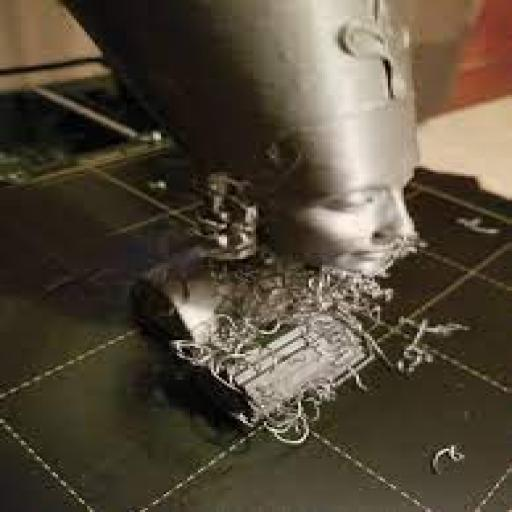spaghetti: (201, 254, 438, 398)
